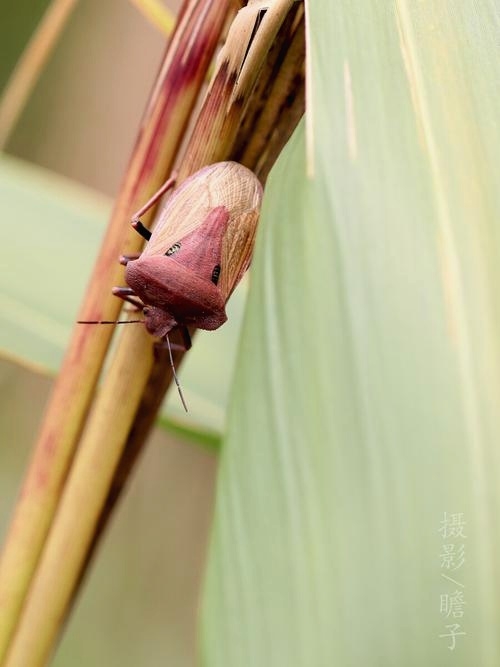Stink_Bug: (141, 164, 263, 327)
